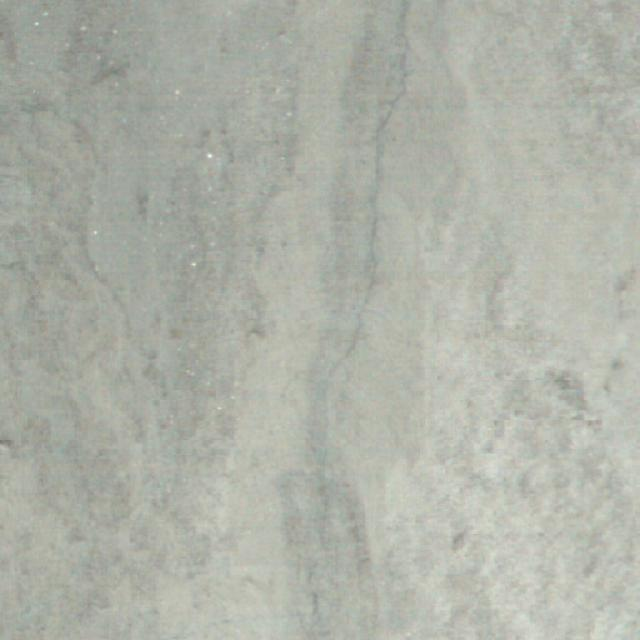Longitudinal: (307, 0, 419, 640)
